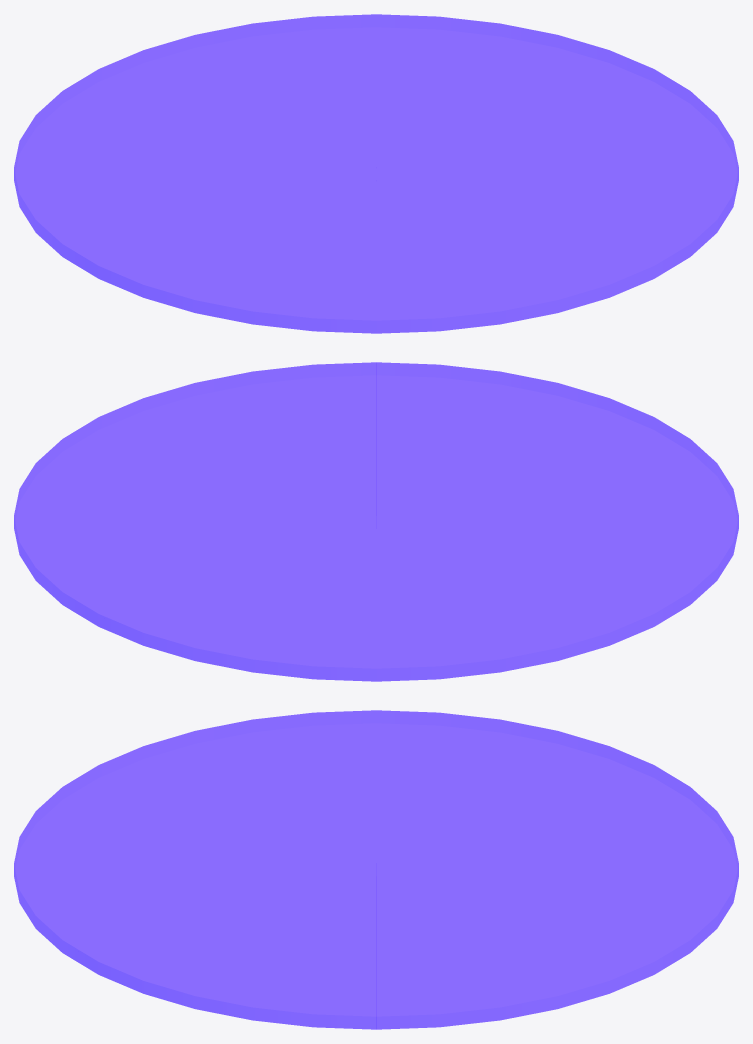
Rendered from blue_medium_plane.FBX.
3 views of the same model, one above another, from view 1: azimuth 30°, elevation 25°; view 2: azimuth 150°, elevation 25°; view 3: azimuth 270°, elevation 25° (orthographic).
Parts seen in each view (by area): view 1: Cylinder001; view 2: Cylinder001; view 3: Cylinder001.
Part boxes in pixels (bbox=[...]): Cylinder001: bbox=[14, 14, 738, 333]; Cylinder001: bbox=[14, 362, 738, 681]; Cylinder001: bbox=[14, 710, 738, 1029].
Bounding box in the file's own units: 99.37 × 1.97 × 99.37.
